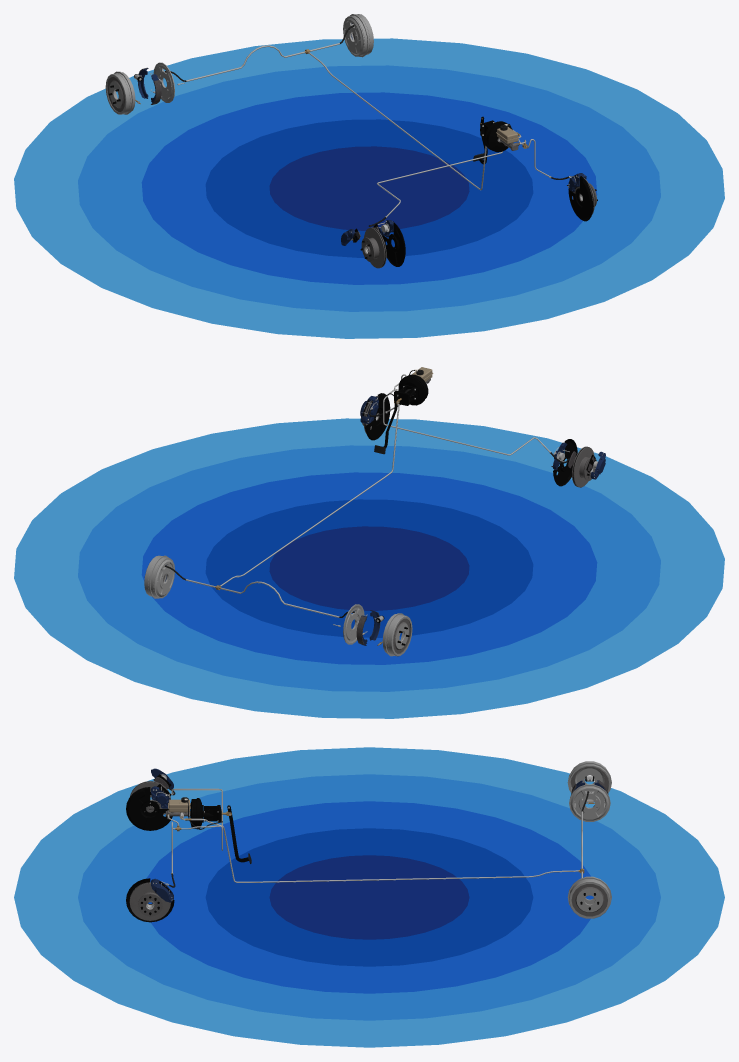
The model's file is Caravan_details_BRAKES.glb.
The picture shows the model from 3 angles, top to bottom: view 1: azimuth 30°, elevation 25°; view 2: azimuth 150°, elevation 25°; view 3: azimuth 270°, elevation 25°; orthographic projection.
Parts seen in each view (by area): view 1: Circle, drum, disc_brake, brake lines, brake_booster.002, brake_calliper, drum_inner; view 2: Circle, drum, disc_brake, brake lines, brake_booster.002, brake_calliper; view 3: Circle, drum, disc_brake, brake lines, brake_booster.002, brake_calliper.
Part boxes in pixels (bbox=[...]): Circle: bbox=[14, 38, 724, 338]; drum: bbox=[105, 14, 373, 114]; disc_brake: bbox=[360, 176, 597, 268]; brake lines: bbox=[165, 25, 569, 226]; brake_booster.002: bbox=[473, 116, 519, 164]; brake_calliper: bbox=[341, 173, 586, 245]; drum_inner: bbox=[134, 23, 360, 104]; Circle: bbox=[14, 418, 724, 718]; drum: bbox=[144, 555, 412, 656]; disc_brake: bbox=[362, 393, 596, 487]; brake lines: bbox=[165, 374, 569, 617]; brake_booster.002: bbox=[374, 367, 433, 454]; brake_calliper: bbox=[360, 396, 605, 479]; Circle: bbox=[14, 747, 724, 1047]; drum: bbox=[567, 761, 611, 918]; disc_brake: bbox=[126, 781, 174, 922]; brake lines: bbox=[167, 788, 588, 887]; brake_booster.002: bbox=[165, 797, 251, 863]; brake_calliper: bbox=[151, 768, 173, 902].
Size of the model in its own units: 4 by 0.7457 by 4.
11 materials, 6 textured.
